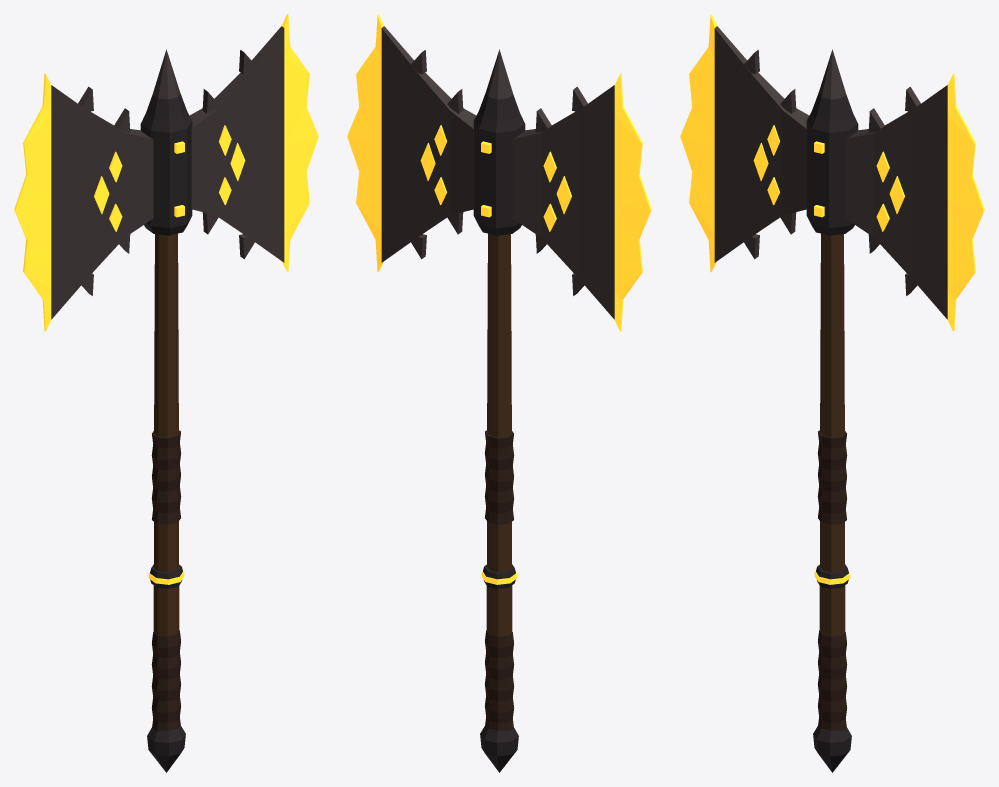
The model's file is W2S_EmberAxe.fbx.
3 renders of one model, left to right at view 1: azimuth 30°, elevation 25°; view 2: azimuth 150°, elevation 25°; view 3: azimuth 330°, elevation 25°, orthographic.
Visible parts, largest first — view 1: W2S_EmberAxe; view 2: W2S_EmberAxe; view 3: W2S_EmberAxe.
Part boxes in pixels (box(x1,y1,x2,y2)): W2S_EmberAxe: box(14, 14, 318, 772); W2S_EmberAxe: box(347, 14, 651, 772); W2S_EmberAxe: box(680, 14, 984, 772).
Size of the model in its own units: 50 by 115 by 8.2.
